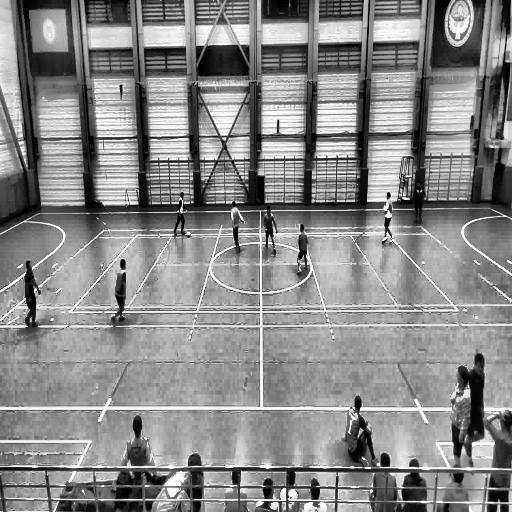ball: (187, 231, 191, 238)
player: (450, 367, 477, 471), (22, 258, 42, 327), (112, 258, 128, 324), (230, 200, 246, 252), (264, 202, 278, 254), (381, 190, 393, 245), (297, 222, 309, 273), (173, 190, 186, 234), (414, 182, 424, 224)
